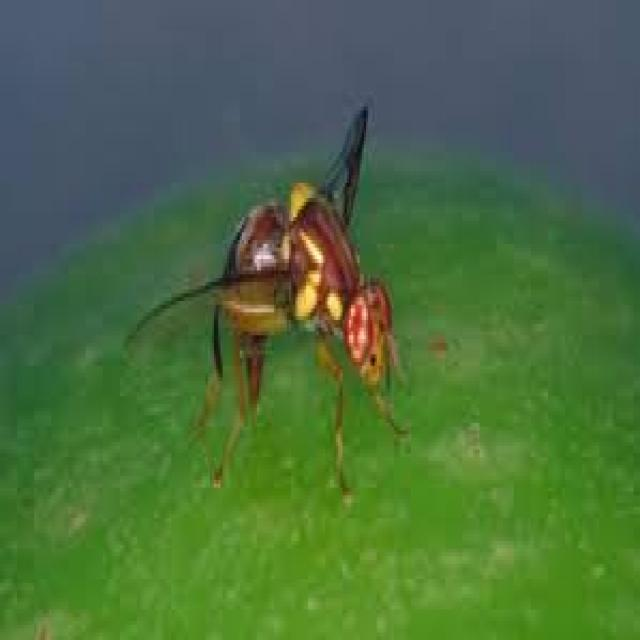Fruit fly: (113, 98, 419, 517)
